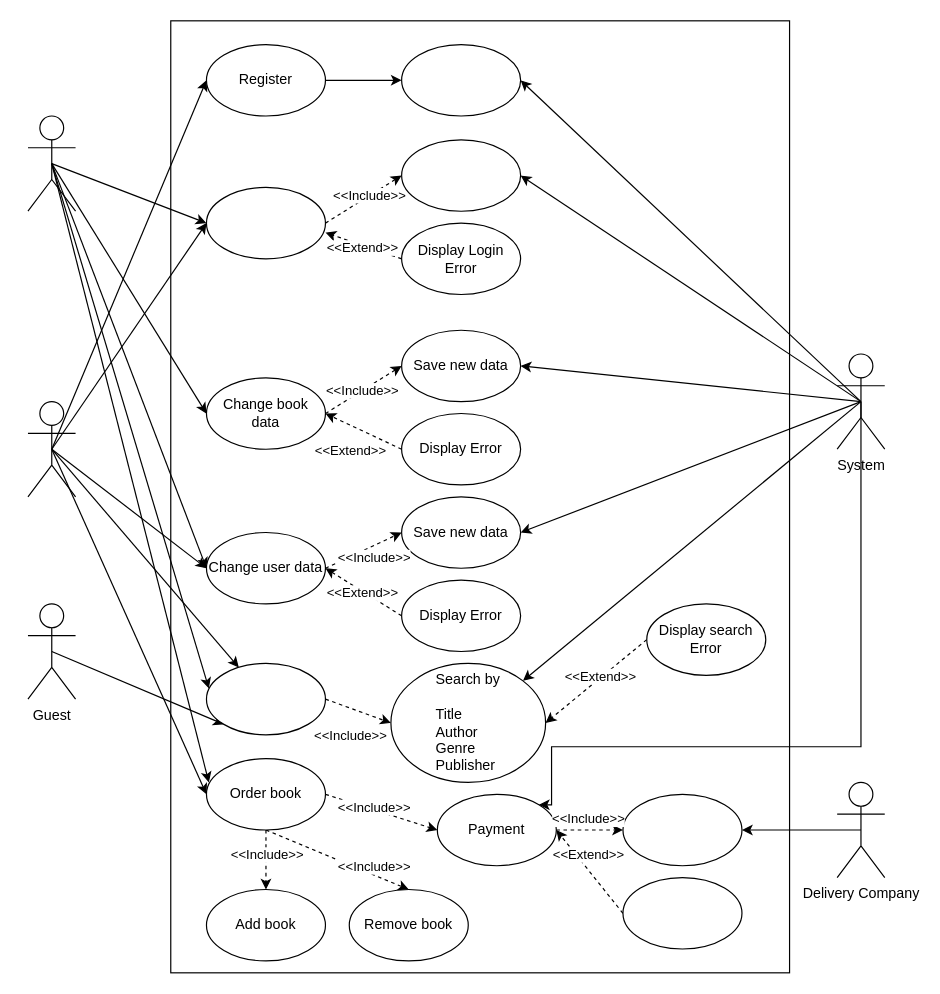
The diagram is 940 pixels wide and 994 high, and some of its shapes have lost their labels. Each missing label, with the centre of its shape:
"Admin" belongs at point 51,163.
"Customer" belongs at point 51,448.
"Deliver" belongs at point 682,829.
"Display payment Error" belongs at point 682,912.
"Log In" belongs at point 265,222.
"Save new user" belongs at point 460,79.
"Search Catalog" belongs at point 265,698.
"Verify Password" belongs at point 460,175.
